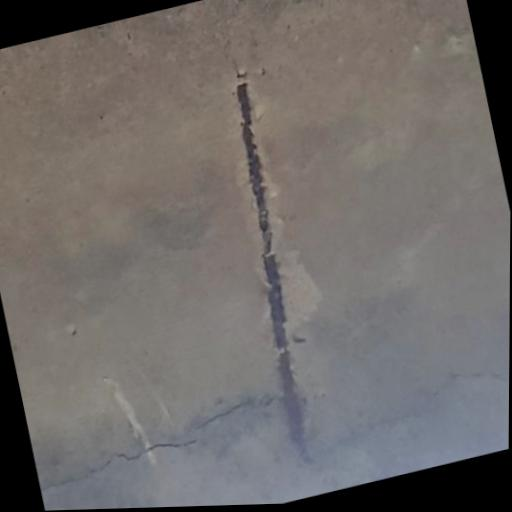exposed_rebar: (236, 80, 307, 455)
